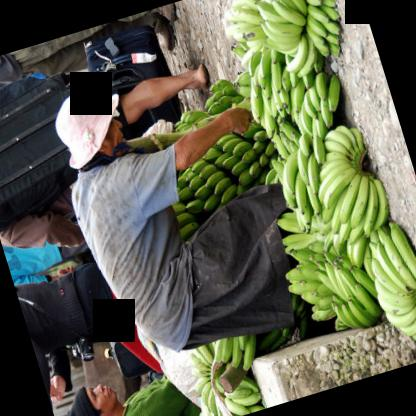handbag: (35, 253, 82, 274)
suitcase: (0, 74, 79, 233), (83, 24, 180, 138)
